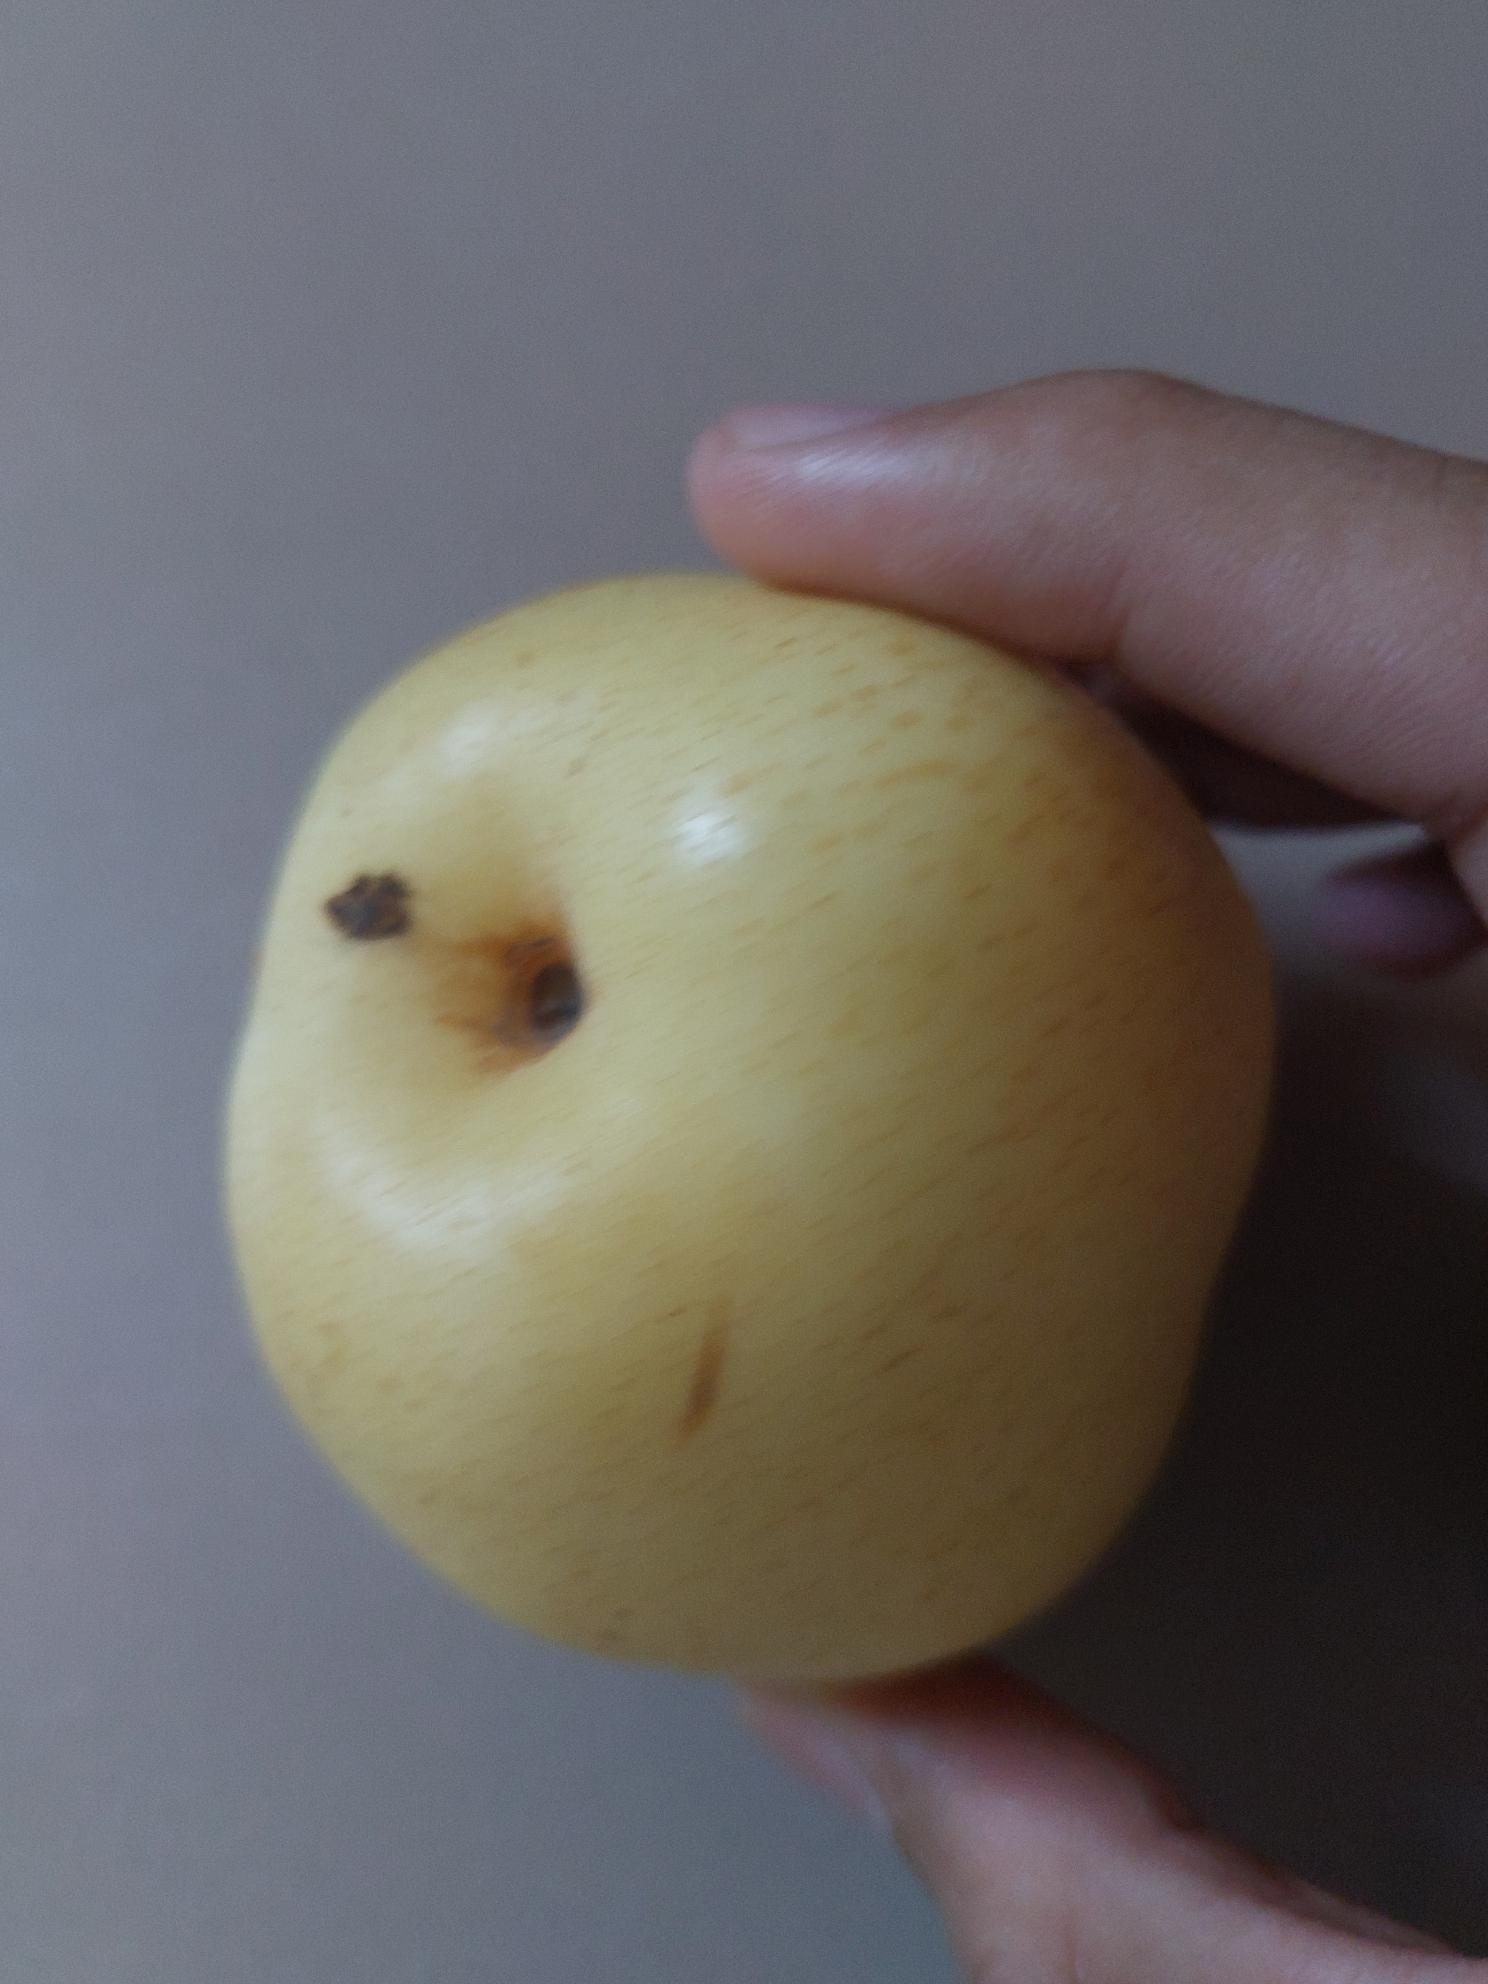Good Pear: (211, 581, 1294, 1681)
